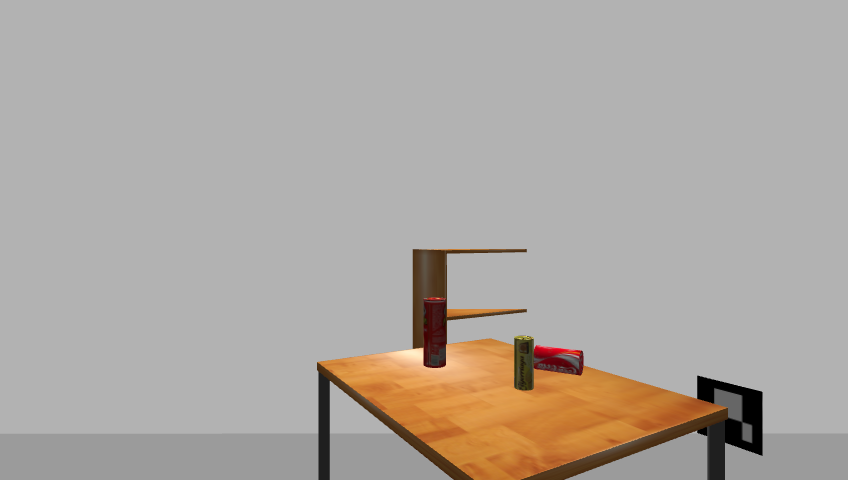aruco marker: (691, 375, 769, 457)
biscuits pack: (513, 335, 535, 392)
bookshelf: (407, 243, 532, 400)
coke can: (531, 346, 587, 378)
dinner table: (311, 340, 735, 479)
pringles can: (420, 297, 448, 370)
